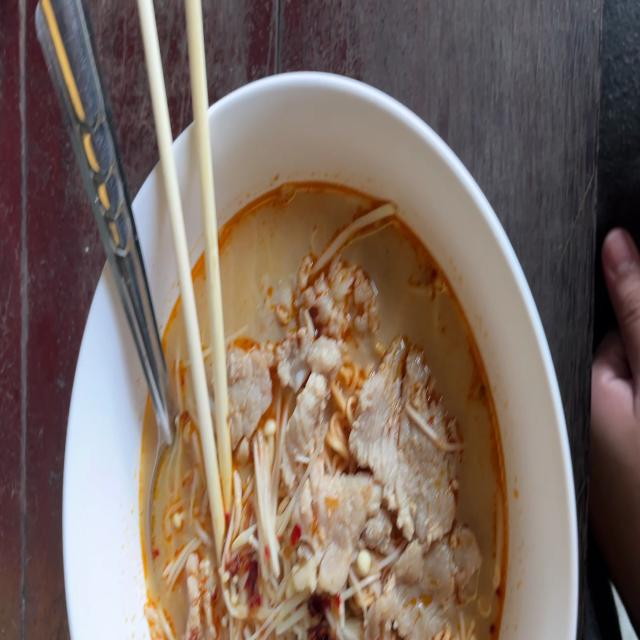noodle: (135, 176, 519, 640)
